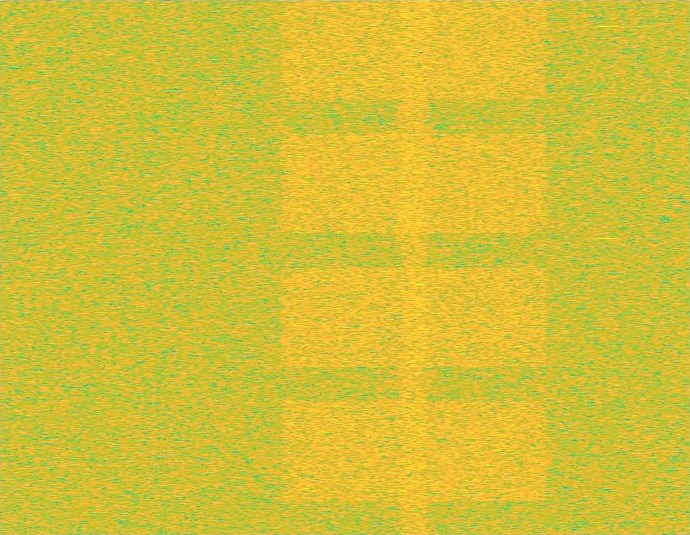5G: (276, 0, 552, 534)
DSSS: (395, 0, 433, 534)
Radar: (601, 0, 615, 534)
